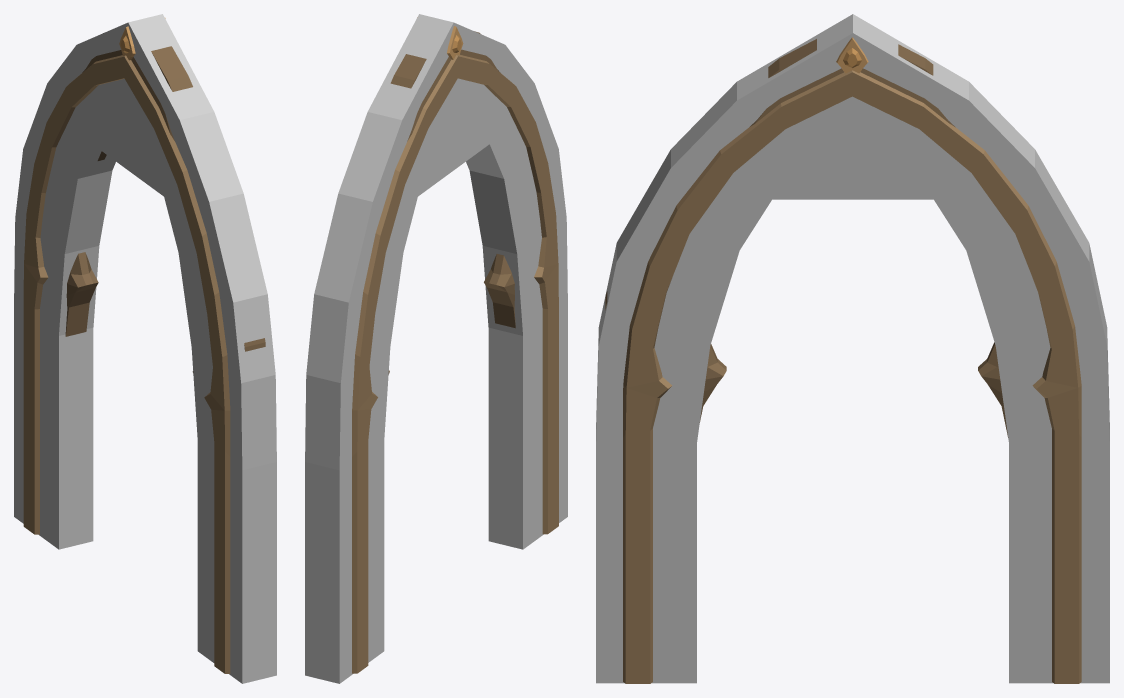
Rendered from SM_Bld_Arch_02.fbx.
The picture shows the model from 3 angles, left to right: view 1: azimuth 30°, elevation 25°; view 2: azimuth 150°, elevation 25°; view 3: azimuth 270°, elevation 25°; orthographic projection. The views are drawn at different scales.
Visible parts, largest first — view 1: SM_Bld_Arch_02_ConvexHulls, SM_Bld_Arch_02; view 2: SM_Bld_Arch_02_ConvexHulls, SM_Bld_Arch_02; view 3: SM_Bld_Arch_02_ConvexHulls, SM_Bld_Arch_02.
Part boxes in pixels (x1=…): SM_Bld_Arch_02_ConvexHulls: x1=14, y1=14, x2=276, y2=683; SM_Bld_Arch_02: x1=23, y1=18, x2=265, y2=673; SM_Bld_Arch_02_ConvexHulls: x1=305, y1=14, x2=567, y2=683; SM_Bld_Arch_02: x1=352, y1=17, x2=558, y2=673; SM_Bld_Arch_02_ConvexHulls: x1=596, y1=14, x2=1109, y2=683; SM_Bld_Arch_02: x1=605, y1=37, x2=1081, y2=683.
Size of the model in its own units: 41.58 by 353 by 493.
Materials: 2 (1 with a texture image).
